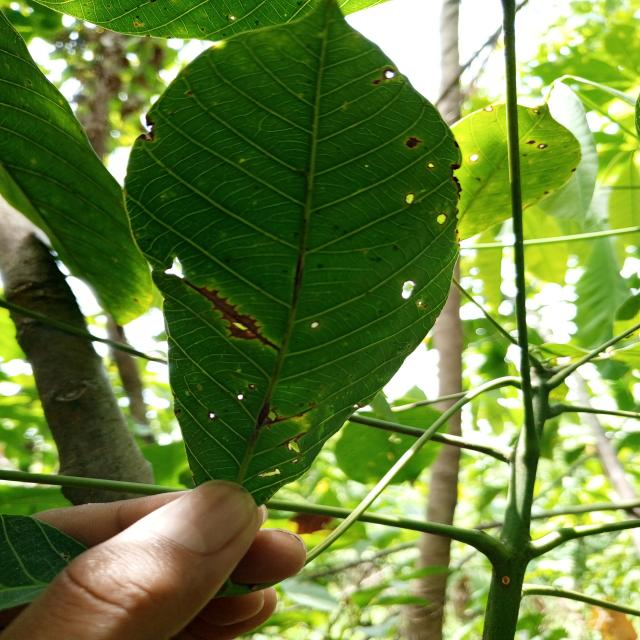Colletotrichum: (310, 321, 321, 329), (236, 393, 244, 401), (247, 383, 256, 390), (418, 300, 422, 306)
Corynespora: (183, 282, 279, 354), (270, 408, 313, 425)
